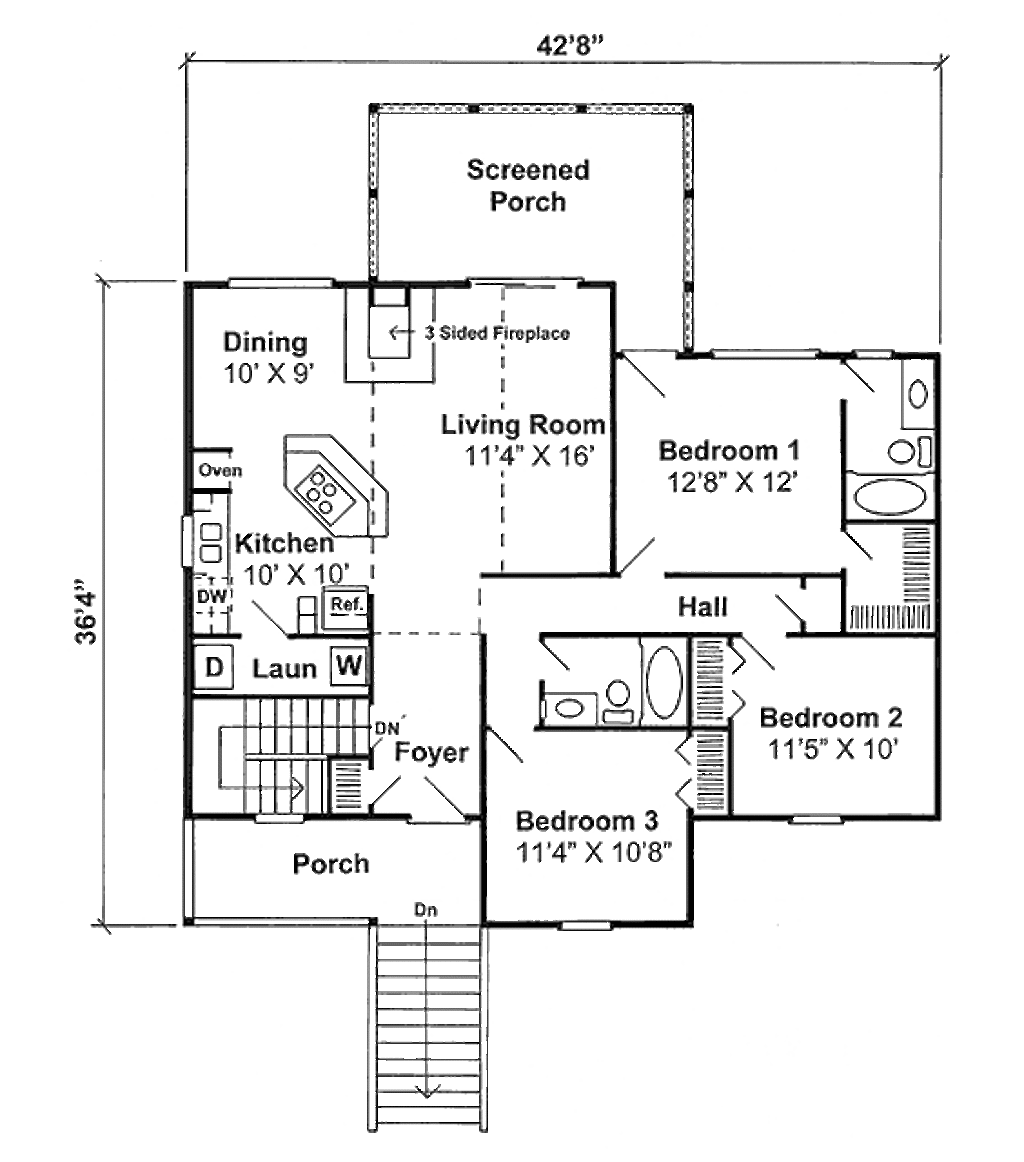kitchen_bar: (276, 431, 392, 539)
large_sink: (595, 670, 639, 731), (883, 432, 939, 475)
small_sink: (896, 360, 940, 433), (544, 688, 597, 727)
stairs: (371, 920, 492, 1142), (186, 695, 370, 817)
tub: (633, 632, 693, 727), (841, 472, 939, 521)
windows: (219, 275, 341, 294), (709, 346, 828, 363), (551, 912, 627, 938), (776, 809, 851, 831)
